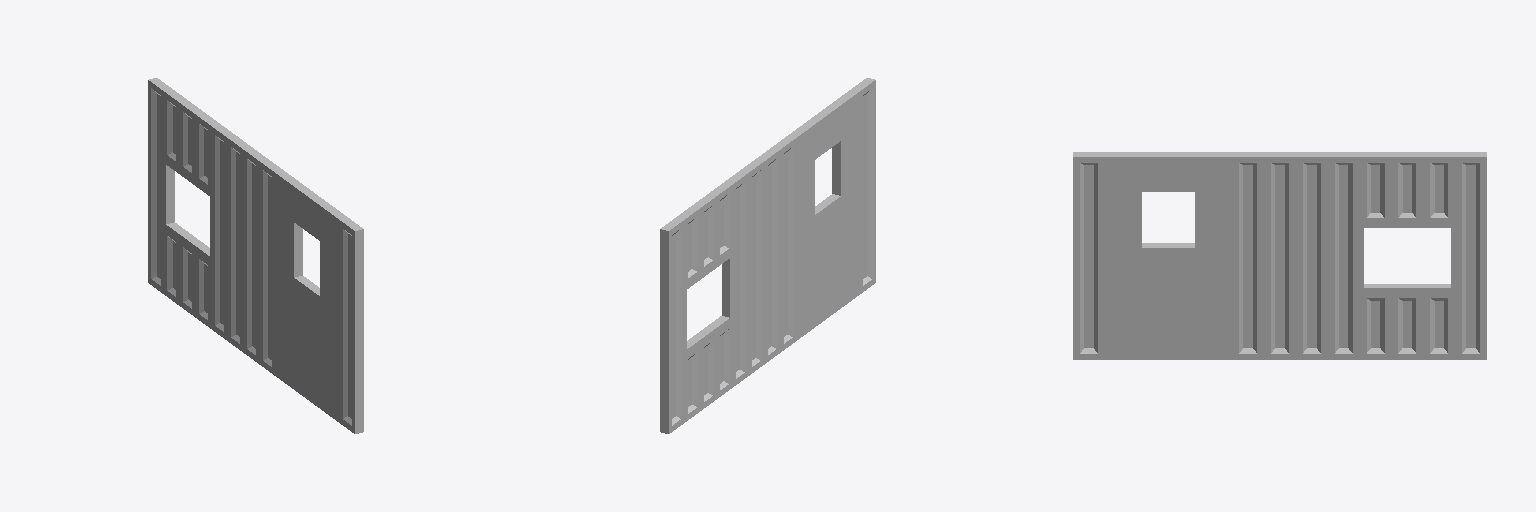
Rendered from ContainerFront.obj.
3 renders of one model, left to right at view 1: azimuth 30°, elevation 25°; view 2: azimuth 150°, elevation 25°; view 3: azimuth 270°, elevation 25°, orthographic.
Size of the model in its own units: 11.88 by 260 by 480.